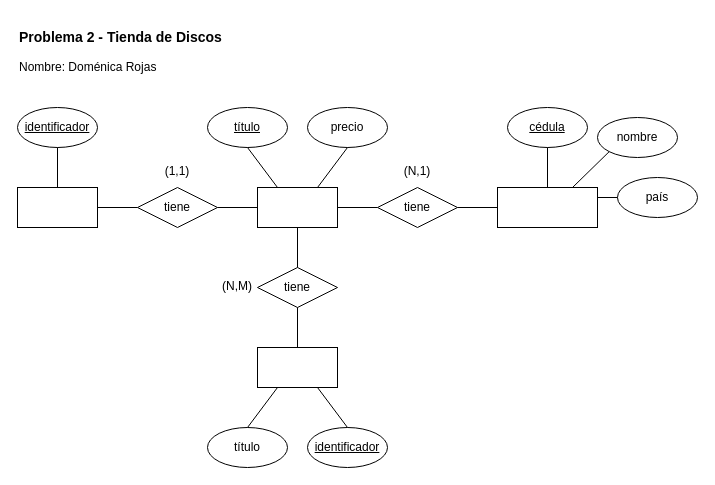
Image size: 715x485. Some labels were removed from this diagram. Here are the shapes that lost their labels. From the top down, the centre of each, then its label:
[57,207]: Género
[297,207]: Disco
[547,207]: Cantante
[297,367]: Canción
